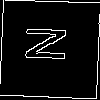N: (25, 25, 77, 64)
